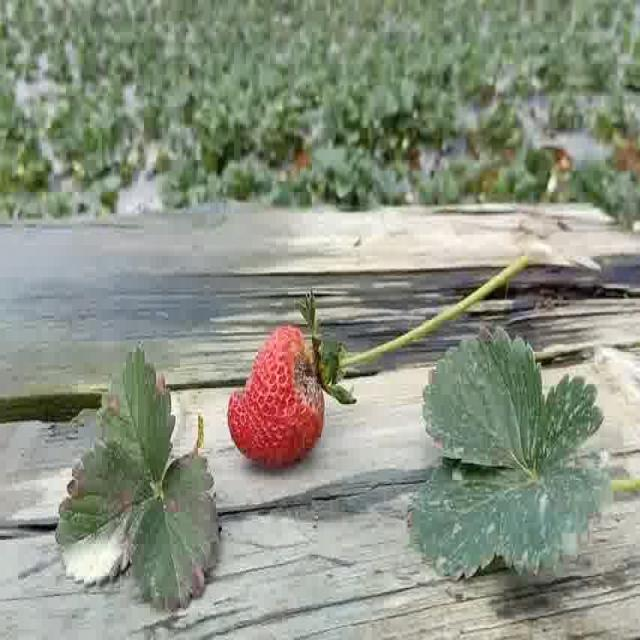Mancha negra Antracnosis: (227, 318, 327, 472)
